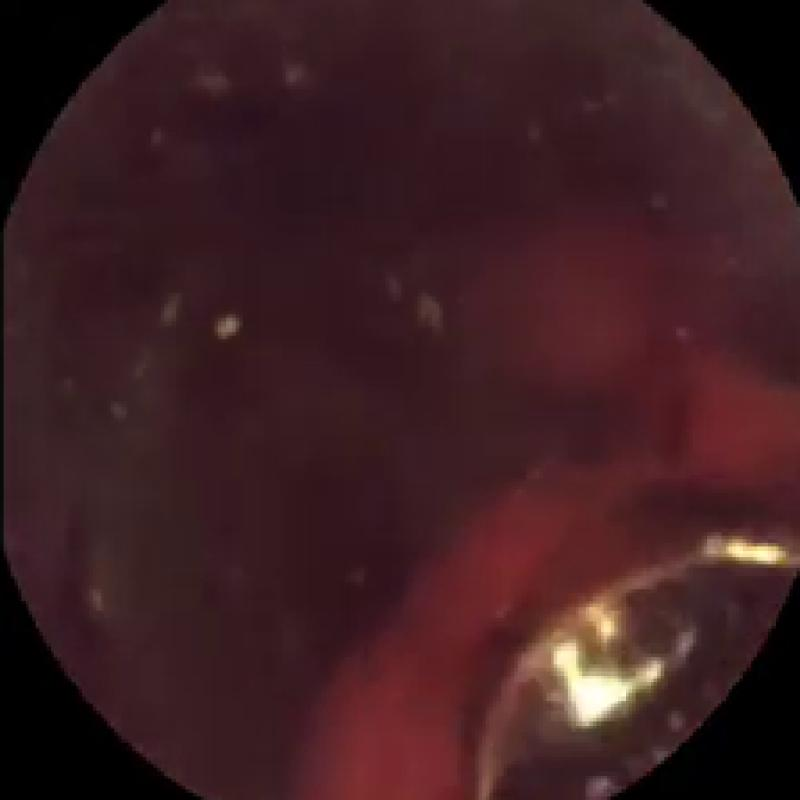bleeding: (307, 378, 796, 800), (480, 211, 648, 372)
